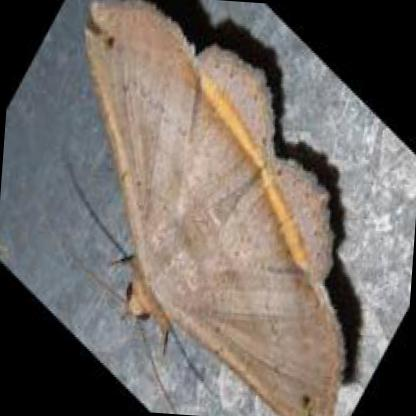Leaf Webber: (78, 1, 341, 416)
